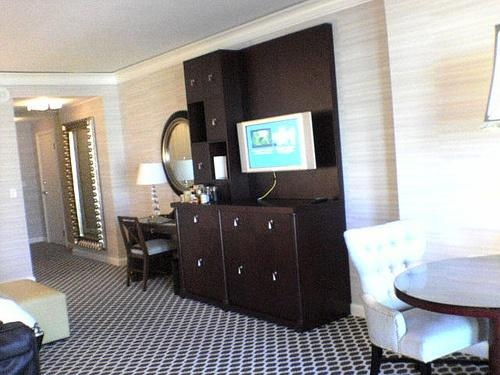chair: (341, 217, 487, 375), (114, 209, 183, 298)
tvmonitor: (237, 110, 320, 176)
